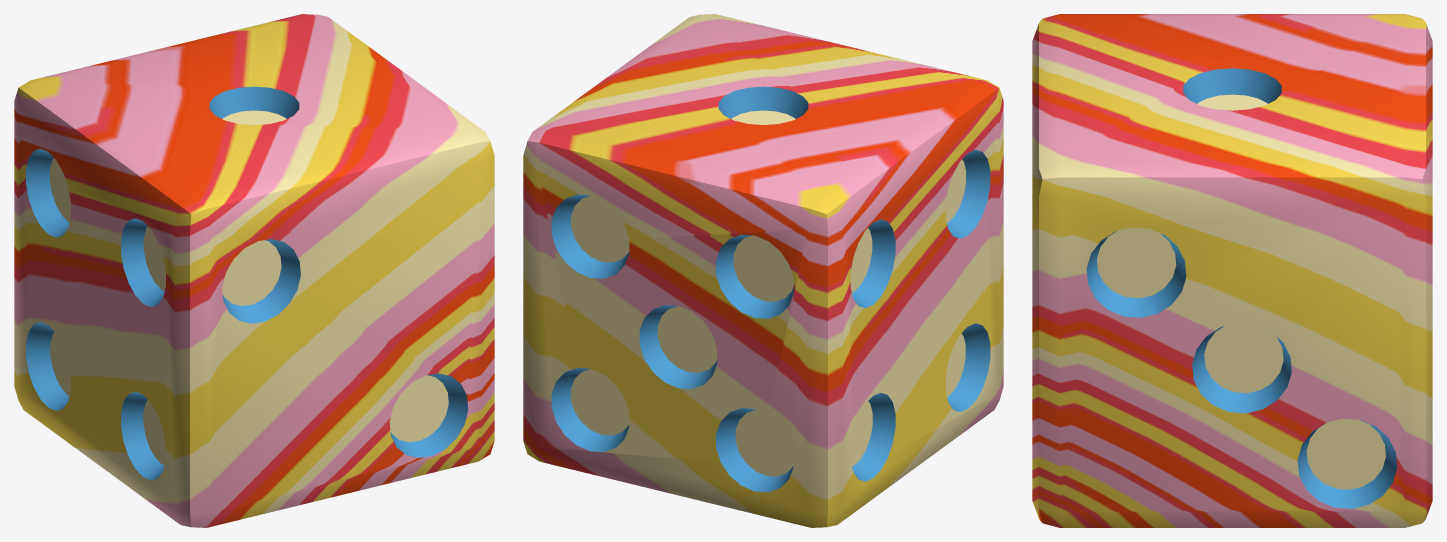
File: M_dice.fbx
3 views of the same model, side by side, from view 1: azimuth 30°, elevation 25°; view 2: azimuth 150°, elevation 25°; view 3: azimuth 270°, elevation 25° (orthographic). The views are drawn at different scales.
Parts seen in each view (by area): view 1: dice; view 2: dice; view 3: dice.
Boxes of the visible parts, x1,y1,x2,y2 form: dice: (14,14,494,527); dice: (523,14,1003,527); dice: (1032,14,1432,527).
Size of the model in its own units: 46.6 by 46.6 by 46.6.
